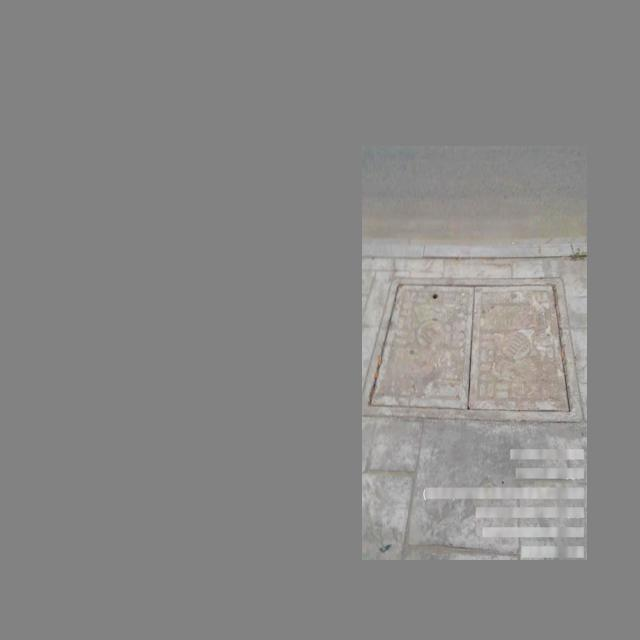good: (370, 276, 566, 406)
